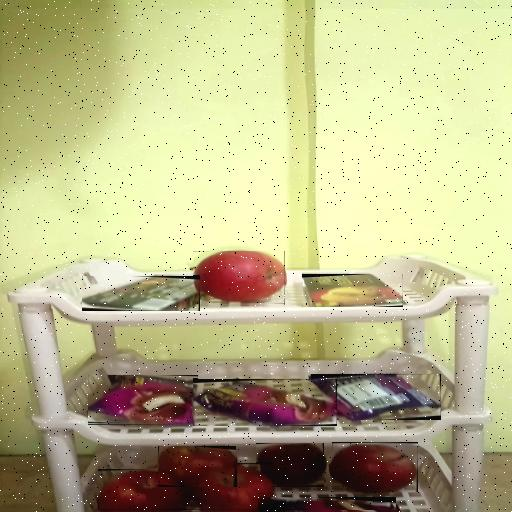Apple: (193, 252, 285, 306), (332, 442, 418, 492), (184, 463, 272, 510), (98, 469, 186, 510), (158, 446, 236, 487), (256, 443, 324, 487)
Choco Fills: (82, 276, 200, 311), (300, 274, 402, 307)
Choco Pie: (193, 379, 337, 426), (311, 374, 441, 420), (88, 376, 198, 426), (258, 497, 396, 510)
